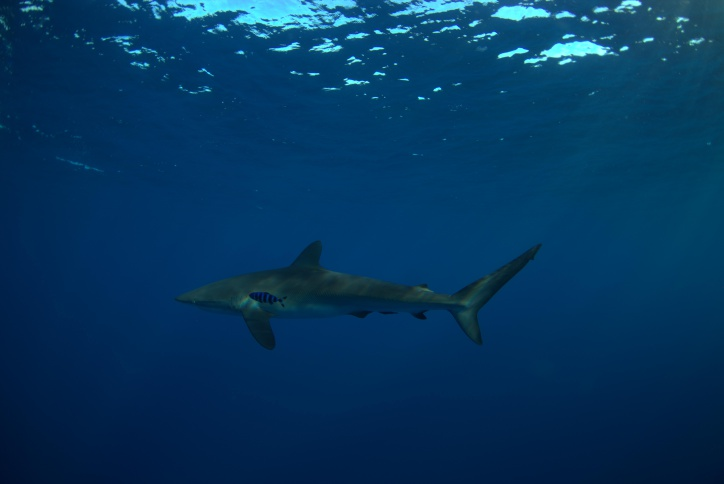Sedoso: (169, 223, 555, 373)
